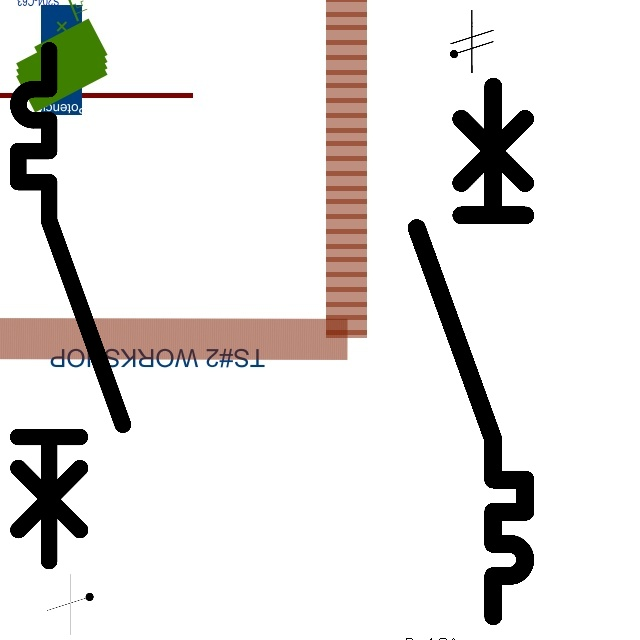interruptor_termomagnetico: (403, 73, 539, 630), (5, 37, 136, 574)
